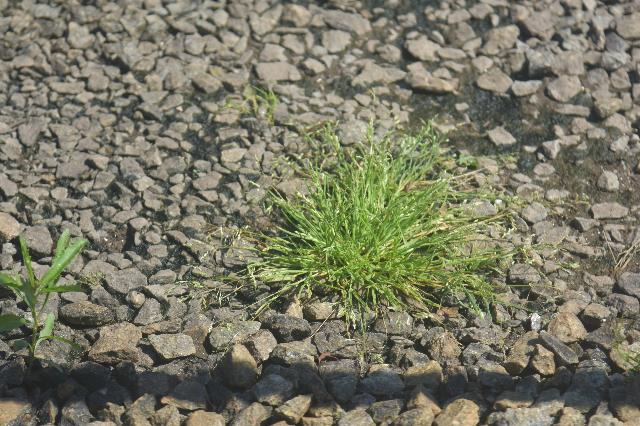MalezaMontesDelPlata: (191, 111, 522, 340), (0, 220, 99, 394)
